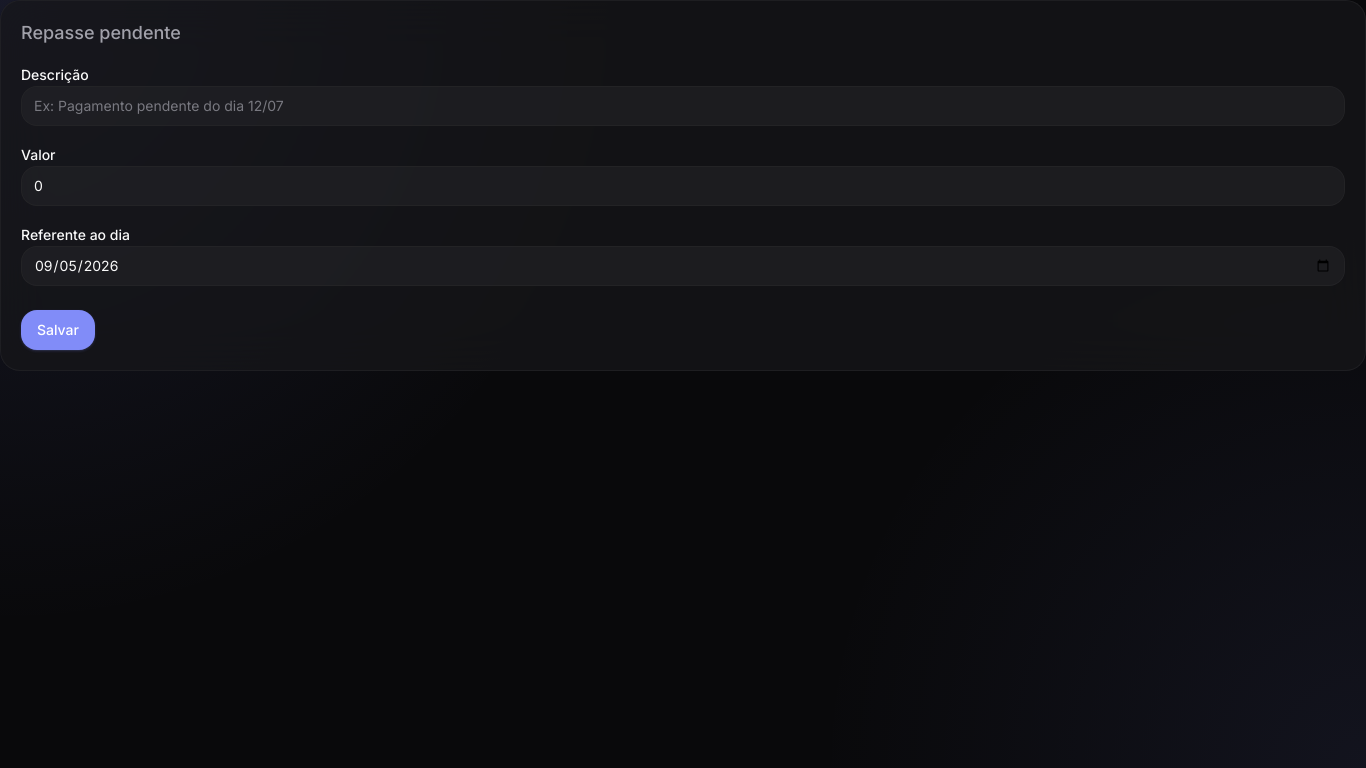
Test: PendingForm › exibe erros de validação ao enviar formulário vazio
Click the button "Salvar".
click(58, 330)  # box top-left (21, 310), bottom-right (95, 350)
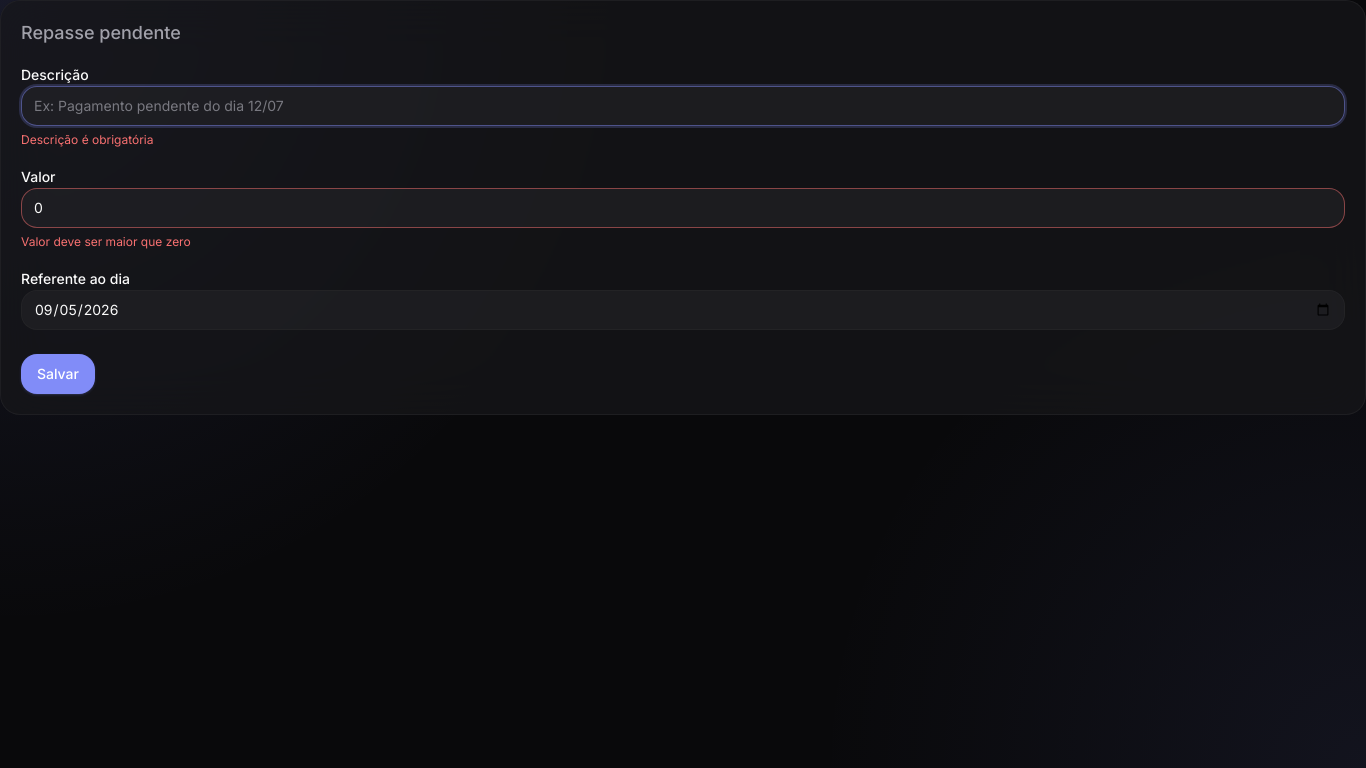
Expected: the text "Descrição é obrigatória" is shown, top-left (21, 132), bottom-right (154, 147)
